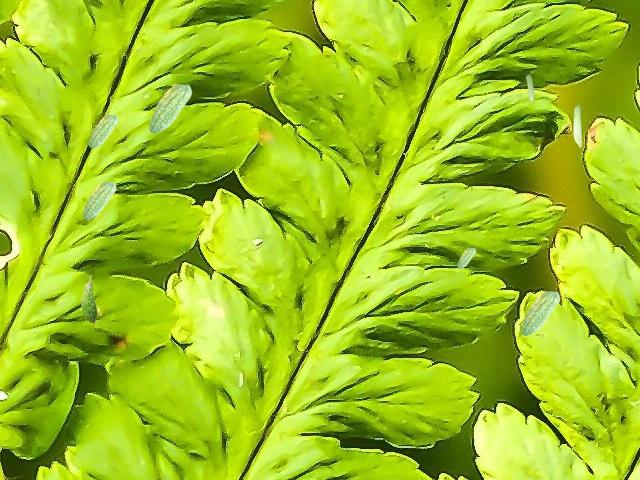ampalaya: (148, 83, 192, 134), (520, 290, 560, 336), (82, 180, 116, 220), (88, 113, 118, 148), (80, 274, 97, 324), (457, 247, 476, 269), (573, 103, 582, 148), (525, 73, 535, 101)
